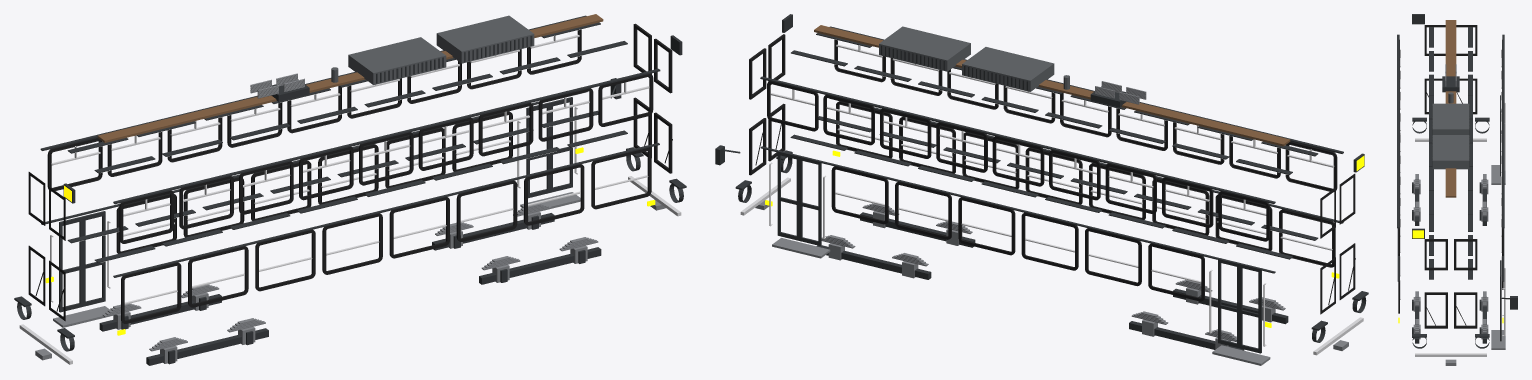
File: tram_detail.glb
3 views of the same model, side by side, from view 1: azimuth 30°, elevation 25°; view 2: azimuth 150°, elevation 25°; view 3: azimuth 270°, elevation 25° (orthographic). The views are drawn at different scales.
Visible parts, largest first — view 1: tram__rubber, tram__dark, tram__chrome, tram__grille, tram__steel, tram__wood, tram__tube; view 2: tram__rubber, tram__dark, tram__chrome, tram__grille, tram__steel, tram__wood, tram__tube; view 3: tram__dark, tram__rubber, tram__grille, tram__steel, tram__wood, tram__chrome, tram__amber.
Boxes of the visible parts, x1=… form: tram__rubber: x1=28, y1=23, x2=672, y2=323; tram__dark: x1=14, y1=15, x2=686, y2=365; tram__chrome: x1=19, y1=35, x2=681, y2=364; tram__grille: x1=331, y1=15, x2=534, y2=84; tram__steel: x1=35, y1=73, x2=665, y2=363; tram__wood: x1=97, y1=14, x2=603, y2=142; tram__tube: x1=75, y1=25, x2=623, y2=262; tram__rubber: x1=749, y1=34, x2=1355, y2=314; tram__dark: x1=715, y1=14, x2=1368, y2=353; tram__chrome: x1=740, y1=44, x2=1363, y2=355; tram__grille: x1=879, y1=26, x2=1069, y2=91; tram__steel: x1=755, y1=81, x2=1348, y2=365; tram__wood: x1=814, y1=25, x2=1290, y2=146; tram__tube: x1=794, y1=35, x2=1312, y2=259; tram__dark: x1=1397, y1=14, x2=1517, y2=348; tram__rubber: x1=1398, y1=25, x2=1503, y2=328; tram__grille: x1=1432, y1=92, x2=1469, y2=169; tram__steel: x1=1413, y1=64, x2=1505, y2=365; tram__wood: x1=1445, y1=20, x2=1456, y2=197; tram__chrome: x1=1400, y1=49, x2=1505, y2=356; tram__amber: x1=1398, y1=230, x2=1503, y2=323.
Bounding box in the file's own units: 12 × 4.23 × 2.78.
